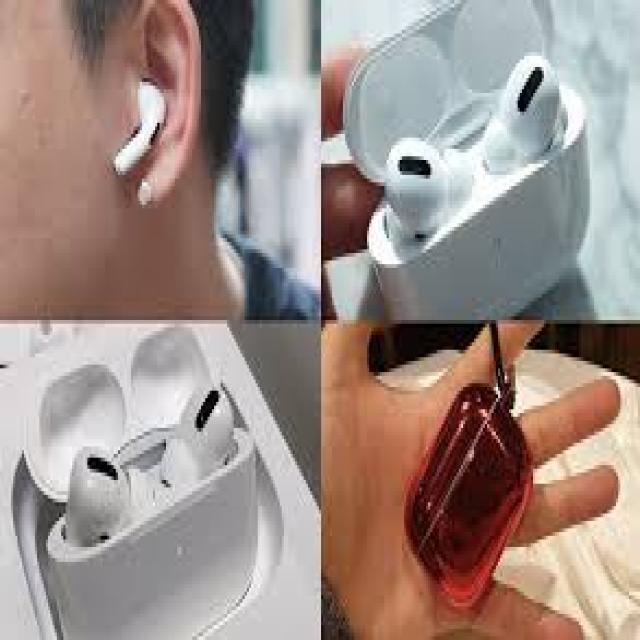earphone: (160, 360, 271, 482), (45, 422, 150, 536), (480, 30, 574, 156), (92, 70, 178, 184), (366, 132, 465, 228)
